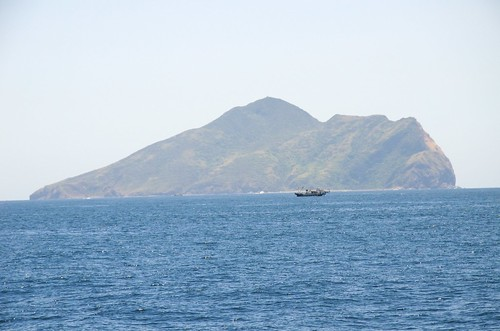turtleIsland: (25, 89, 454, 190)
